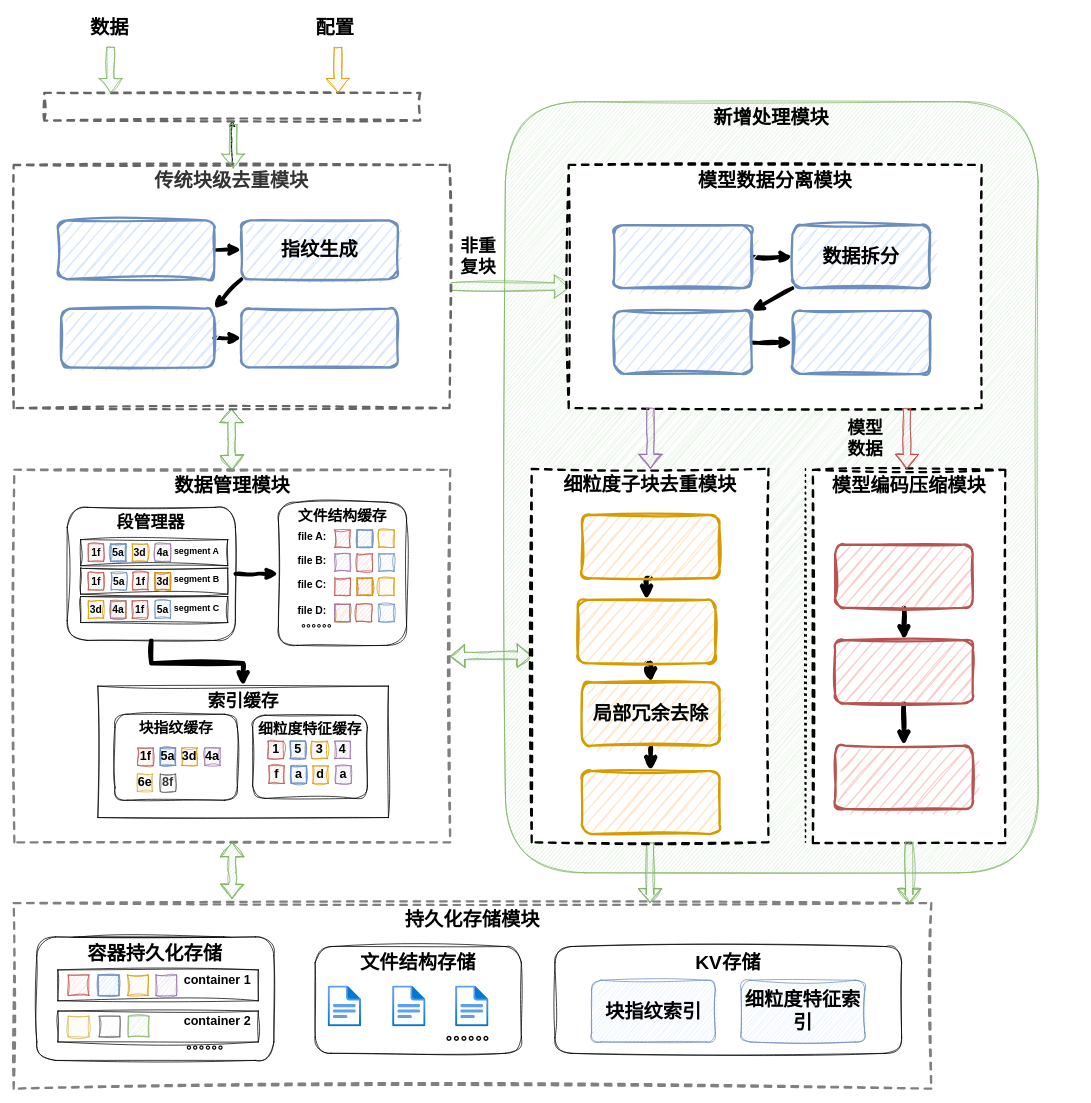
Image size: 1091x1103. Some labels were removed from this diagram. The centre of each missing label's shape, as x and y in pixels:
冗余识别: point (903, 576)
冗余集中: point (903, 671)
压缩冗余区: point (903, 777)
压缩差异区: point (650, 802)
子块切分: point (650, 546)
数据抽样: point (682, 256)
数据更新: point (319, 337)
数据流: point (295, 146)
文件分块: point (135, 249)
熵值分析: point (682, 342)
系统初始化+调用接口: point (232, 106)
细粒度特征提取: point (646, 631)
重复块查找: point (137, 337)
鉴别分离: point (861, 342)
